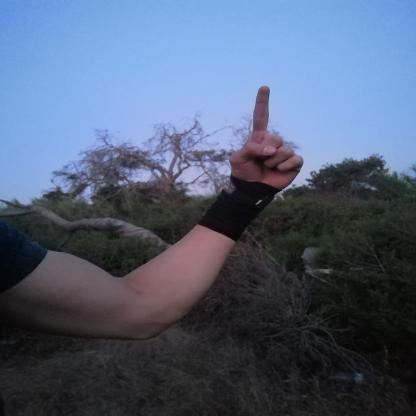BAA: (223, 78, 308, 198)
